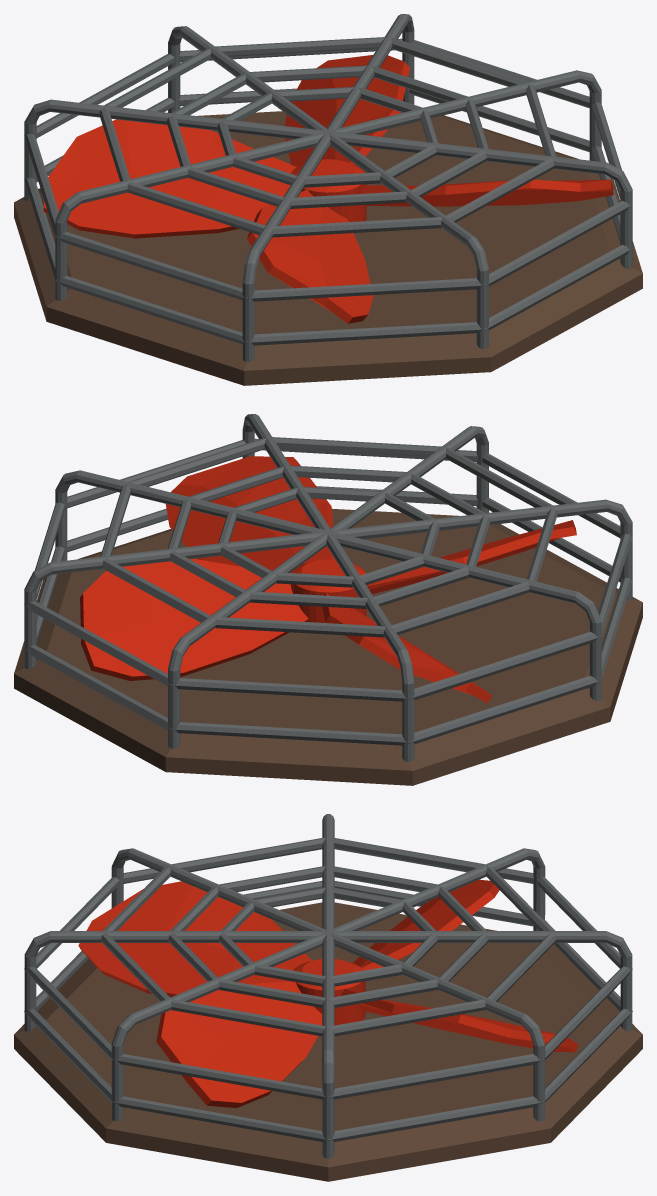
The model's file is Fan.fbx.
3 views of the same model, one above another, from view 1: azimuth 30°, elevation 25°; view 2: azimuth 150°, elevation 25°; view 3: azimuth 270°, elevation 25° (orthographic). The views are drawn at different scales.
Parts seen in each view (by area): view 1: FanCage, FanBlades; view 2: FanCage, FanBlades; view 3: FanCage, FanBlades.
Boxes of the visible parts, bbox=[...] form: FanCage: bbox=[14, 14, 642, 385]; FanBlades: bbox=[43, 55, 613, 323]; FanCage: bbox=[14, 414, 642, 785]; FanBlades: bbox=[80, 456, 576, 703]; FanCage: bbox=[14, 814, 642, 1181]; FanBlades: bbox=[78, 879, 578, 1107].
Size of the model in its own units: 112 by 25.49 by 112.
